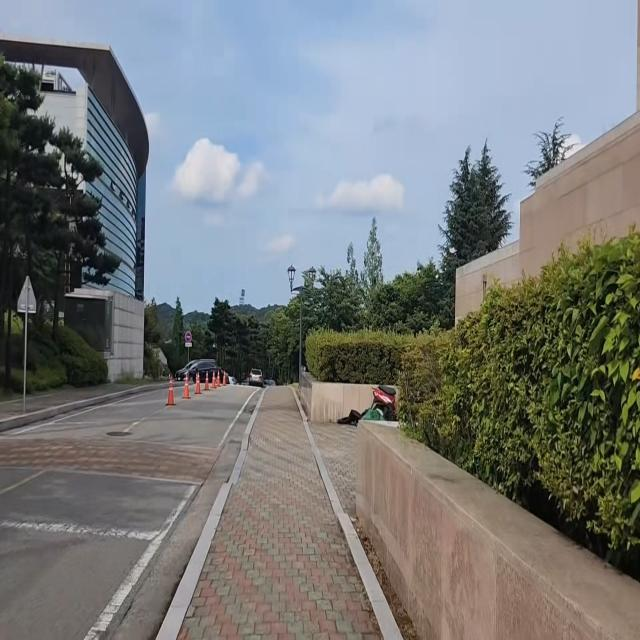road: (0, 375, 262, 640)
sidewalk: (162, 382, 408, 640), (0, 379, 149, 430)
